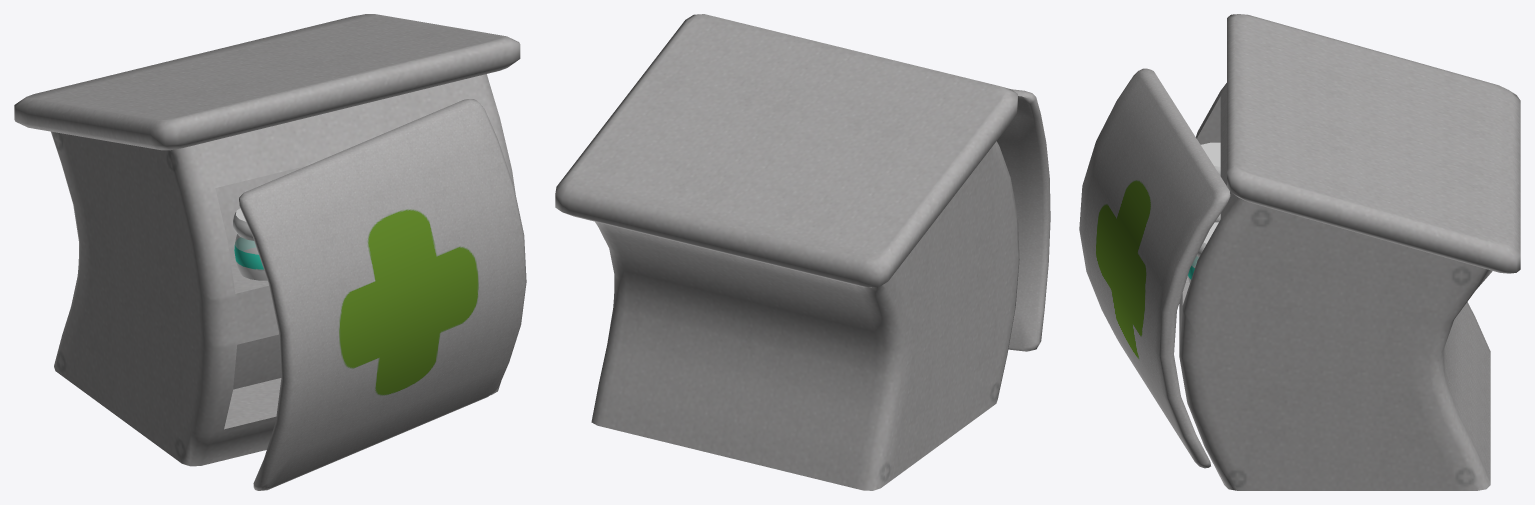
Rendered from Cabinet_OL.glb.
The picture shows the model from 3 angles, left to right: view 1: azimuth 30°, elevation 25°; view 2: azimuth 150°, elevation 25°; view 3: azimuth 270°, elevation 25°; orthographic projection. The views are drawn at different scales.
Visible parts, largest first — view 1: Base_L, Door_L, I_Bottle1.001; view 2: Base_L, Door_L; view 3: Base_L, Door_L.
Part boxes in pixels (box(x1,y1,x2,y2)): Base_L: box(14, 14, 520, 466); Door_L: box(239, 99, 526, 490); I_Bottle1.001: box(234, 234, 267, 280); Base_L: box(555, 14, 1019, 490); Door_L: box(997, 89, 1050, 351); Base_L: box(1179, 14, 1520, 490); Door_L: box(1079, 68, 1230, 468).
Bounding box in the file's own units: 1.38 × 1.26 × 1.54.
5 materials, 5 textured.
